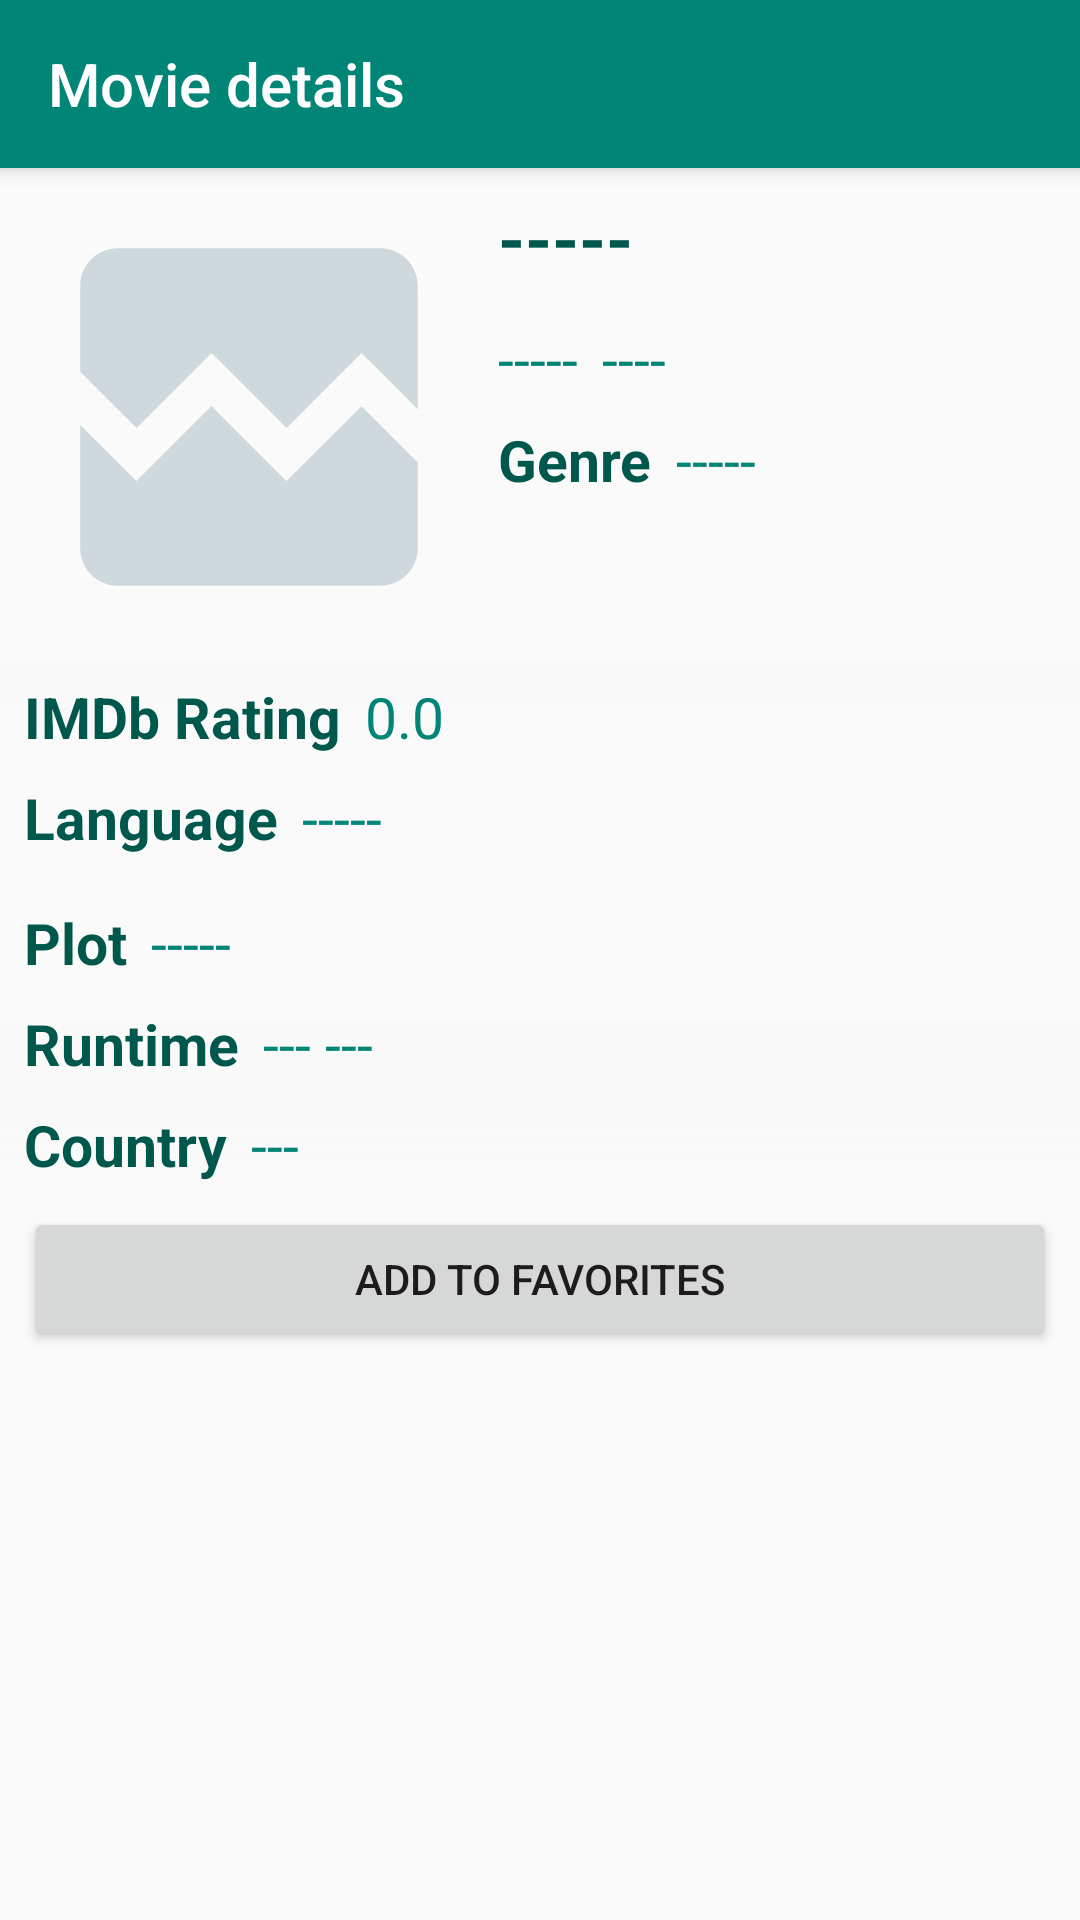

Icons on this 1080 x 1920 Android screen, each with its box as (x1, y1, x2, y2):
broken: (80, 248, 418, 586)
